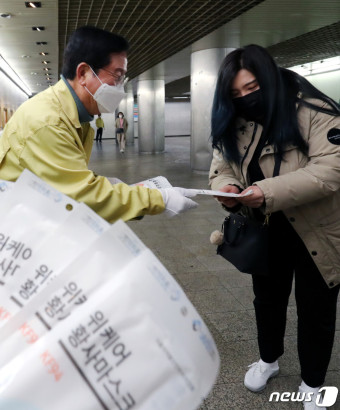mask: (93, 83, 126, 114), (232, 89, 268, 116)
